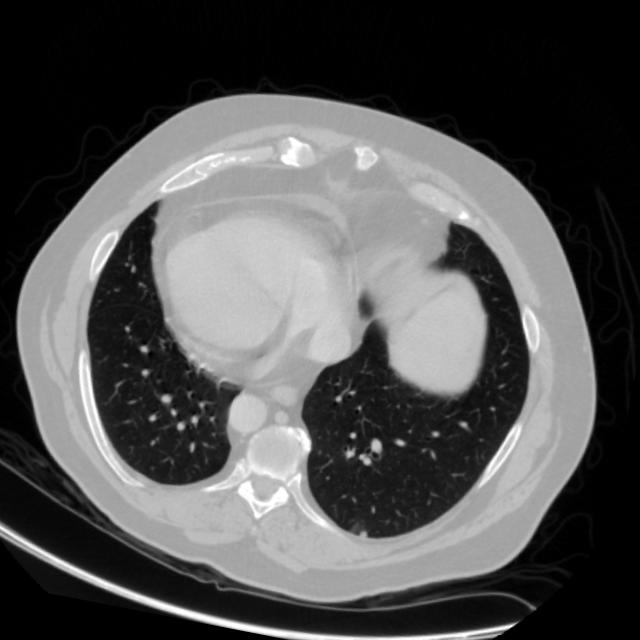nodule: (355, 522, 376, 543)
